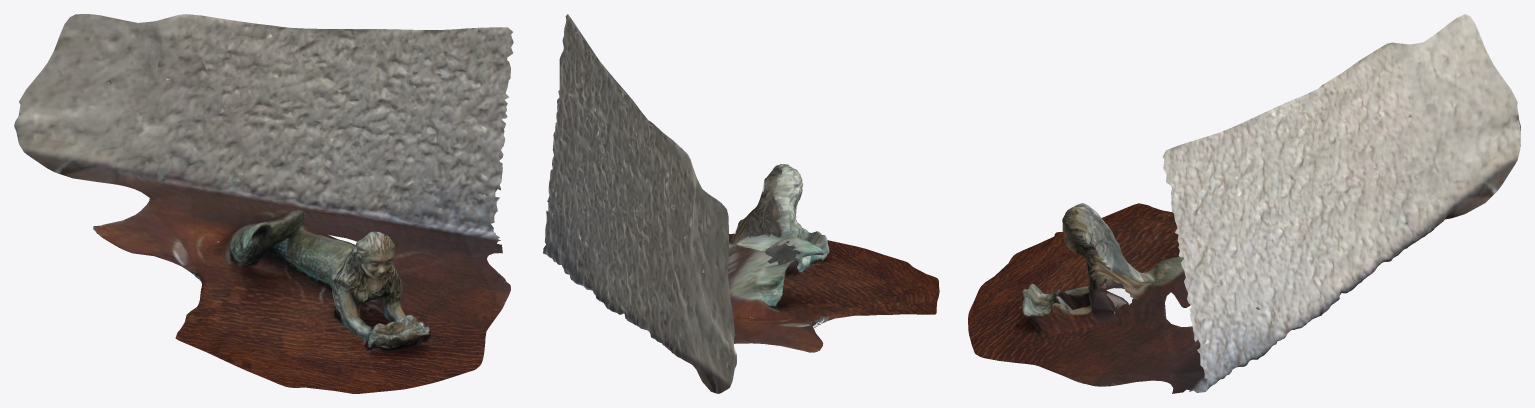
Rendered from meerminNew.glb.
The picture shows the model from 3 angles, left to right: view 1: azimuth 30°, elevation 25°; view 2: azimuth 150°, elevation 25°; view 3: azimuth 270°, elevation 25°; orthographic projection. The views are drawn at different scales.
Visible parts, largest first — view 1: meermin; view 2: meermin; view 3: meermin.
Boxes of the visible parts, x1,y1,x2,y2 form: meermin: (14,14,513,393); meermin: (542,14,939,393); meermin: (968,14,1520,393).
Bounding box in the file's own units: 38.18 × 25.72 × 48.23.
Materials: 2 (1 with a texture image).
